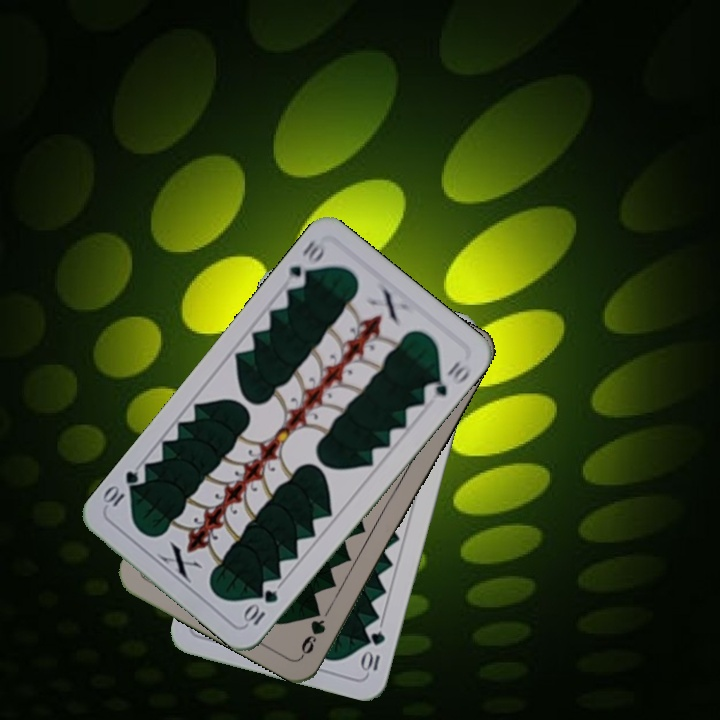G10: (281, 236, 330, 292), (240, 585, 281, 628), (359, 627, 388, 676)
G9: (296, 615, 328, 659)
